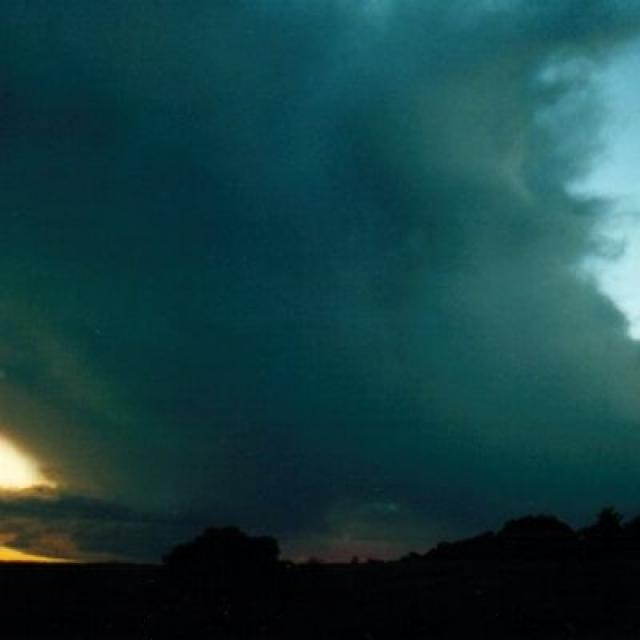Cb: (1, 10, 640, 415)
